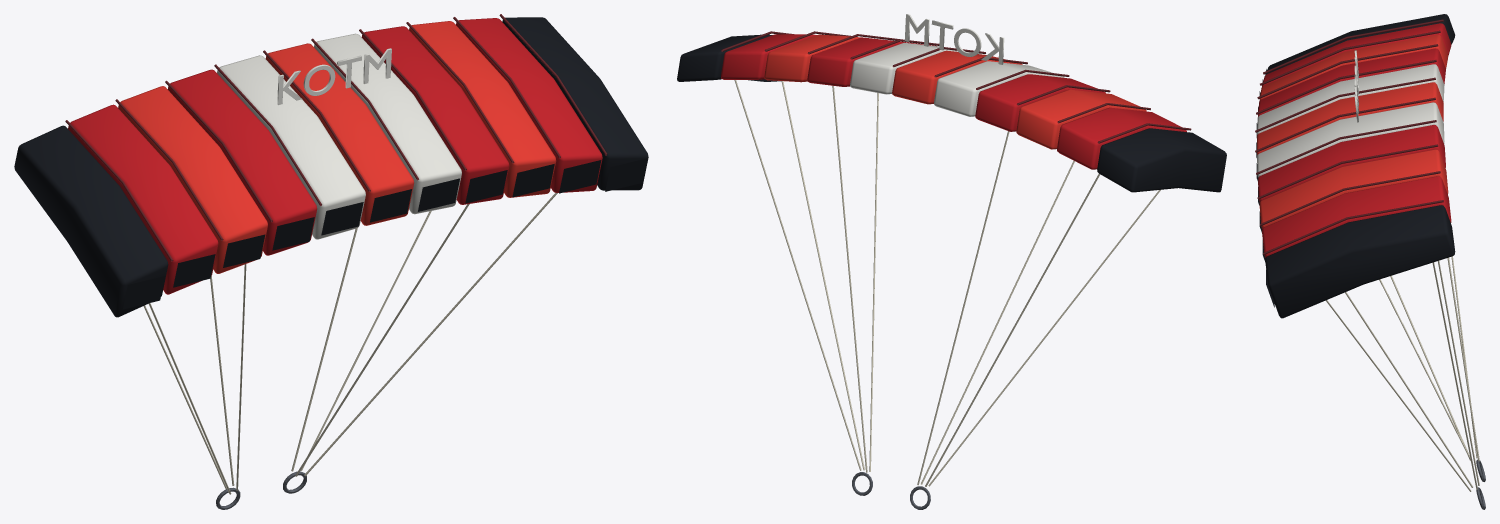
The model's file is KOTM_Parachute.glb.
The picture shows the model from 3 angles, left to right: view 1: azimuth 30°, elevation 25°; view 2: azimuth 150°, elevation 25°; view 3: azimuth 270°, elevation 25°; orthographic projection. The views are drawn at different scales.
Parts seen in each view (by area): view 1: Canopy_Cell_01, Canopy_Cell_02, Canopy_Cell_03, Canopy_Cell_04, Canopy_Cell_05, Canopy_Cell_06, Canopy_Cell_08, Canopy_Cell_07, Canopy_Cell_09, Canopy_Cell_10, Canopy_Cell_11, KOTM_Canopy_Mark (+13 smaller); view 2: Canopy_Cell_01, Canopy_Cell_02, Canopy_Cell_03, Canopy_Cell_04, Canopy_Cell_05, Canopy_Cell_06, Canopy_Cell_07, Canopy_Cell_08, Canopy_Cell_09, Canopy_Cell_10, Canopy_Cell_11, KOTM_Canopy_Mark (+8 smaller); view 3: Canopy_Cell_11, Canopy_Cell_10, Canopy_Cell_09, Canopy_Cell_08, Canopy_Cell_07, Canopy_Cell_06, Canopy_Cell_05, Canopy_Cell_04, Canopy_Cell_03, Canopy_Cell_02, Canopy_Cell_01, Rib_Seam_08 (+18 smaller).
Boxes of the visible parts, x1,y1,x2,y2 form: Canopy_Cell_01: (14, 125, 168, 317); Canopy_Cell_02: (68, 104, 218, 294); Canopy_Cell_03: (118, 86, 267, 273); Canopy_Cell_04: (167, 69, 317, 255); Canopy_Cell_05: (217, 55, 365, 239); Canopy_Cell_06: (265, 43, 414, 225); Canopy_Cell_08: (361, 26, 509, 204); Canopy_Cell_07: (314, 33, 461, 214); Canopy_Cell_09: (409, 21, 556, 197); Canopy_Cell_10: (456, 18, 602, 192); Canopy_Cell_11: (502, 17, 648, 190); KOTM_Canopy_Mark: (277, 48, 391, 104); Canopy_Cell_01: (1097, 128, 1226, 192); Canopy_Cell_02: (1057, 107, 1186, 169); Canopy_Cell_03: (1016, 89, 1146, 149); Canopy_Cell_04: (975, 74, 1105, 131); Canopy_Cell_05: (934, 61, 1064, 116); Canopy_Cell_06: (892, 50, 1022, 104); Canopy_Cell_07: (850, 42, 979, 94); Canopy_Cell_08: (807, 37, 936, 86); Canopy_Cell_09: (764, 34, 860, 82); Canopy_Cell_10: (721, 34, 816, 79); Canopy_Cell_11: (677, 34, 781, 81); KOTM_Canopy_Mark: (904, 14, 1004, 64); Canopy_Cell_11: (1265, 205, 1455, 318); Canopy_Cell_10: (1262, 176, 1451, 257); Canopy_Cell_09: (1259, 149, 1448, 228); Canopy_Cell_08: (1258, 125, 1445, 201); Canopy_Cell_07: (1257, 102, 1444, 177); Canopy_Cell_06: (1257, 82, 1443, 154); Canopy_Cell_05: (1257, 64, 1444, 134); Canopy_Cell_04: (1258, 48, 1445, 116); Canopy_Cell_03: (1259, 34, 1448, 100); Canopy_Cell_02: (1262, 23, 1451, 86); Canopy_Cell_01: (1265, 14, 1455, 74); Rib_Seam_08: (1257, 144, 1438, 199).
Size of what is drawn, in the model's own units: 0.4296 by 0.3849 by 0.191.
